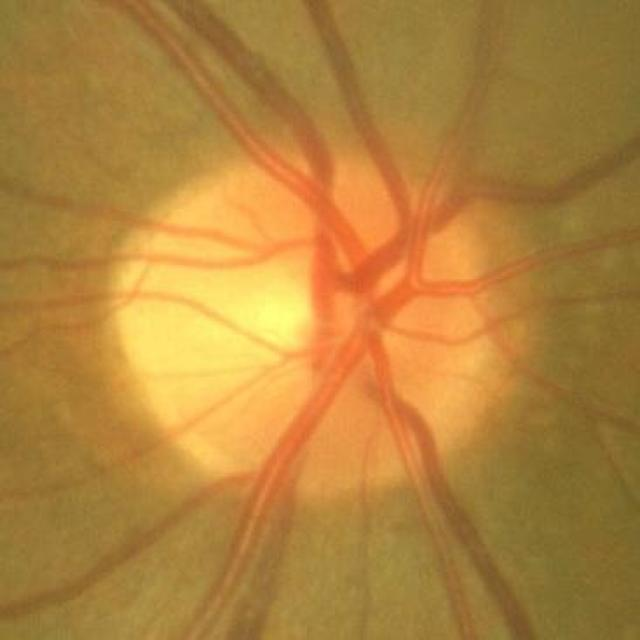OC: (252, 282, 356, 354)
OD: (115, 162, 498, 495)
